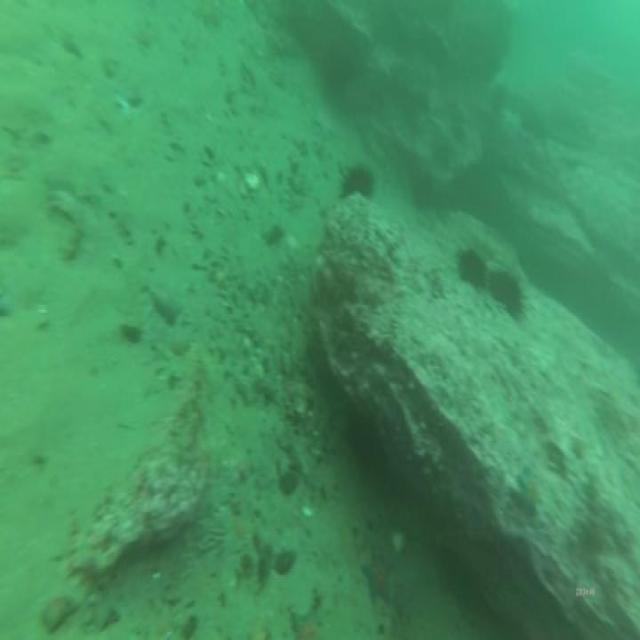echinus: (491, 269, 521, 311), (342, 165, 372, 198), (460, 248, 484, 286)
starfish: (362, 545, 388, 602)
